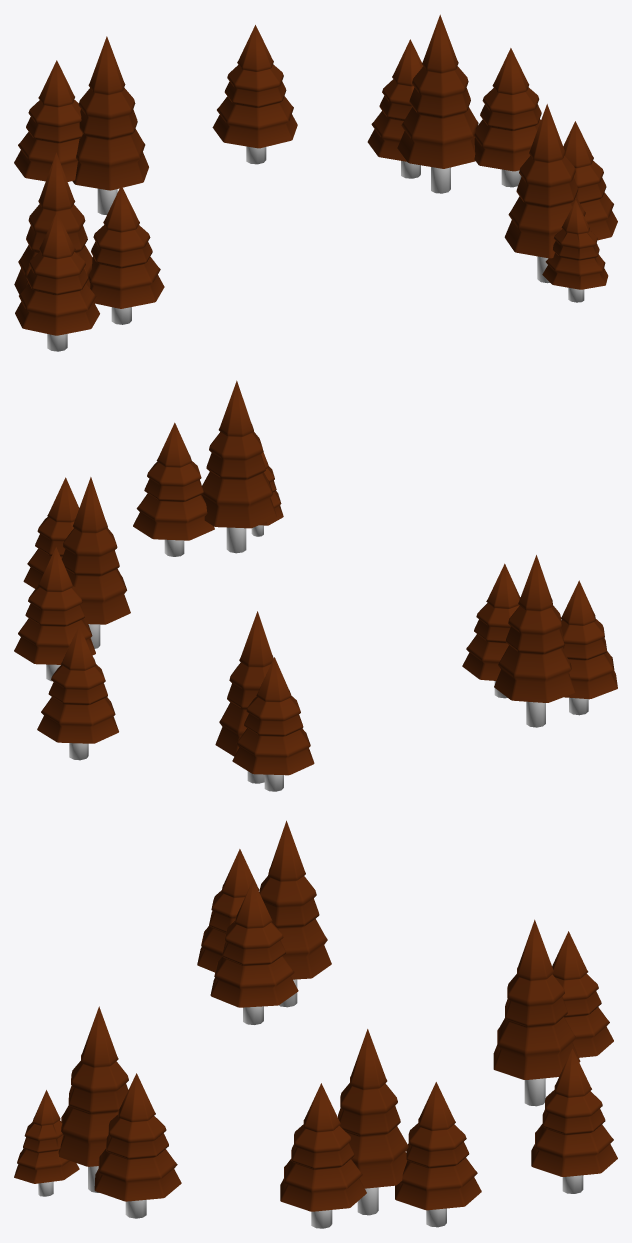
Rendered from Tree_Full 1.fbx.
3 renders of one model, top to bottom at view 1: azimuth 30°, elevation 25°; view 2: azimuth 150°, elevation 25°; view 3: azimuth 270°, elevation 25°, orthographic. The views are drawn at different scales.
Parts seen in each view (by area): view 1: Tree_Full; view 2: Tree_Full; view 3: Tree_Full.
Boxes of the visible parts, box(x1,y1,x2,y2) form: Tree_Full: box(14, 14, 617, 351); Tree_Full: box(14, 380, 617, 791); Tree_Full: box(14, 820, 617, 1228).
Bounding box in the file's own units: 144 × 50.15 × 127.
